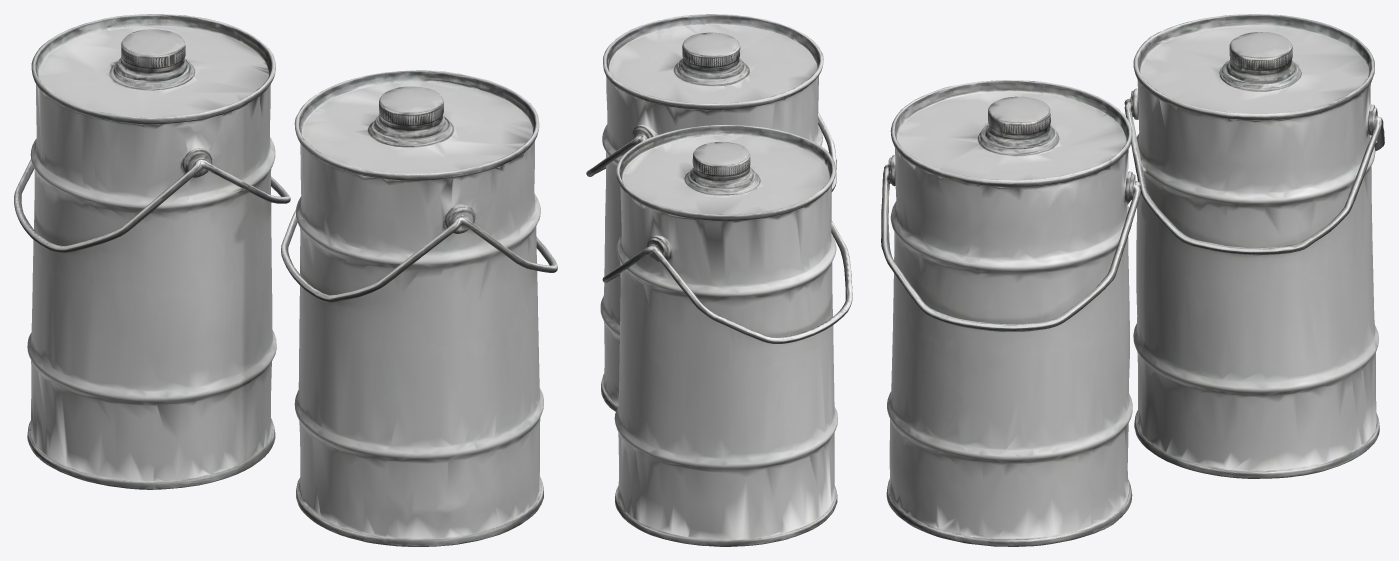
The model's file is yhepgrout-2106.glb.
The picture shows the model from 3 angles, left to right: view 1: azimuth 30°, elevation 25°; view 2: azimuth 150°, elevation 25°; view 3: azimuth 270°, elevation 25°; orthographic projection. The views are drawn at different scales.
Visible parts, largest first — view 1: tripo_node_8b600461-c9b9-43eb-a3a2-a70de895c3ee; view 2: tripo_node_8b600461-c9b9-43eb-a3a2-a70de895c3ee; view 3: tripo_node_8b600461-c9b9-43eb-a3a2-a70de895c3ee.
Part boxes in pixels (box(x1,y1,x2,y2)): tripo_node_8b600461-c9b9-43eb-a3a2-a70de895c3ee: box(14, 14, 557, 546); tripo_node_8b600461-c9b9-43eb-a3a2-a70de895c3ee: box(586, 14, 852, 546); tripo_node_8b600461-c9b9-43eb-a3a2-a70de895c3ee: box(881, 14, 1384, 546).
Bounding box in the file's own units: 0.8537 × 0.8465 × 0.9998.
1 material, 1 textured.
